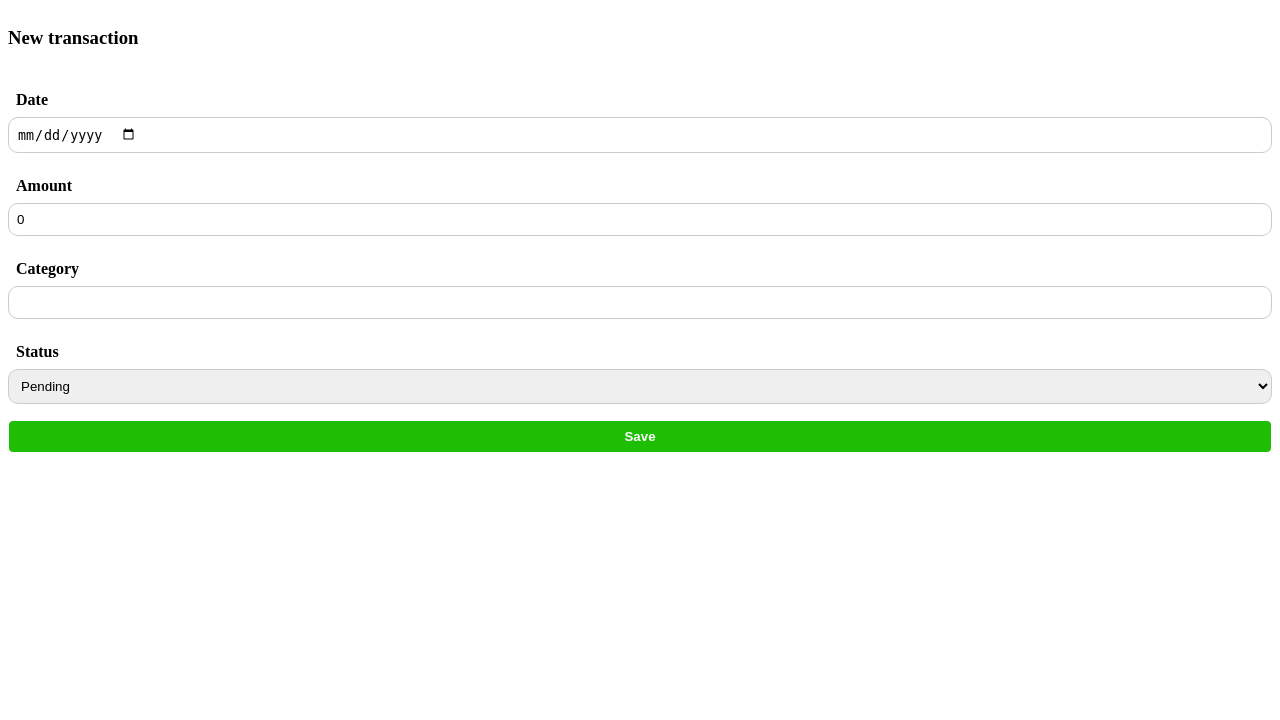
TransactionForm › shows validation errors on empty submit
Click the button "Save": (640, 436) [8, 420, 1272, 453]
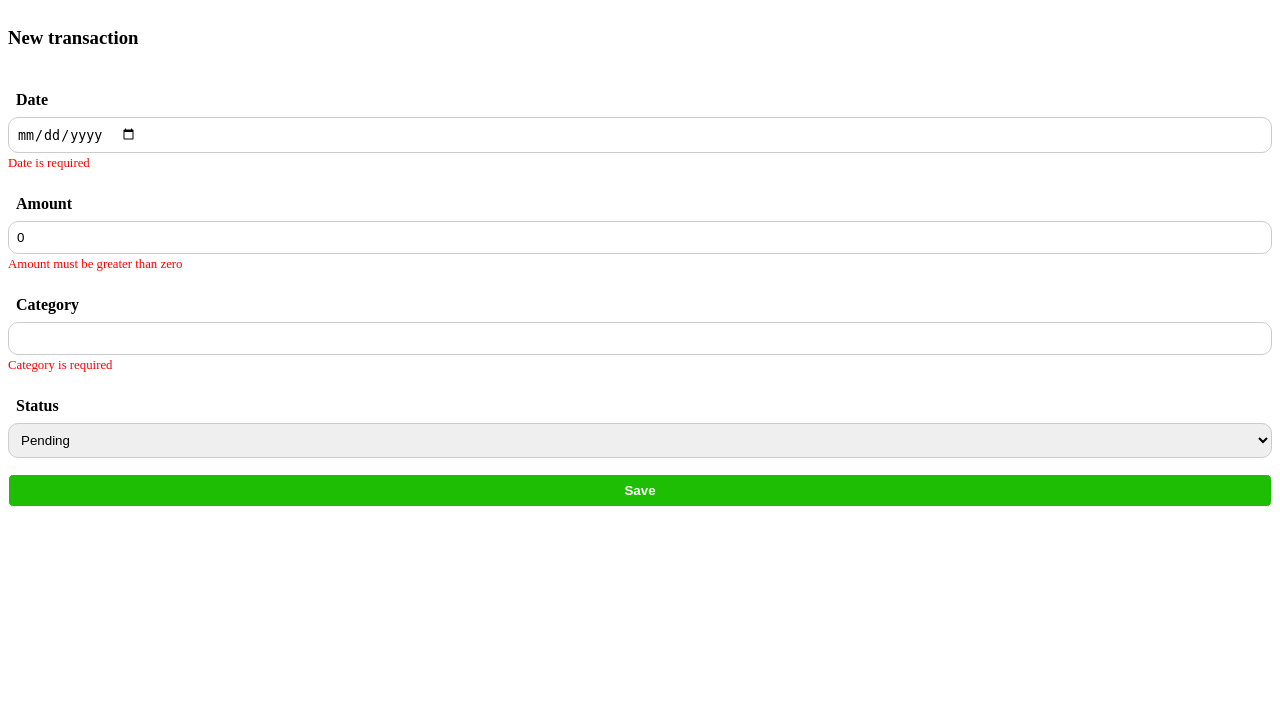
Expected: the text "Date is required" is shown, [8, 156, 90, 170]
Expected: the text "Amount must be greater than zero" is shown, [8, 257, 182, 271]
